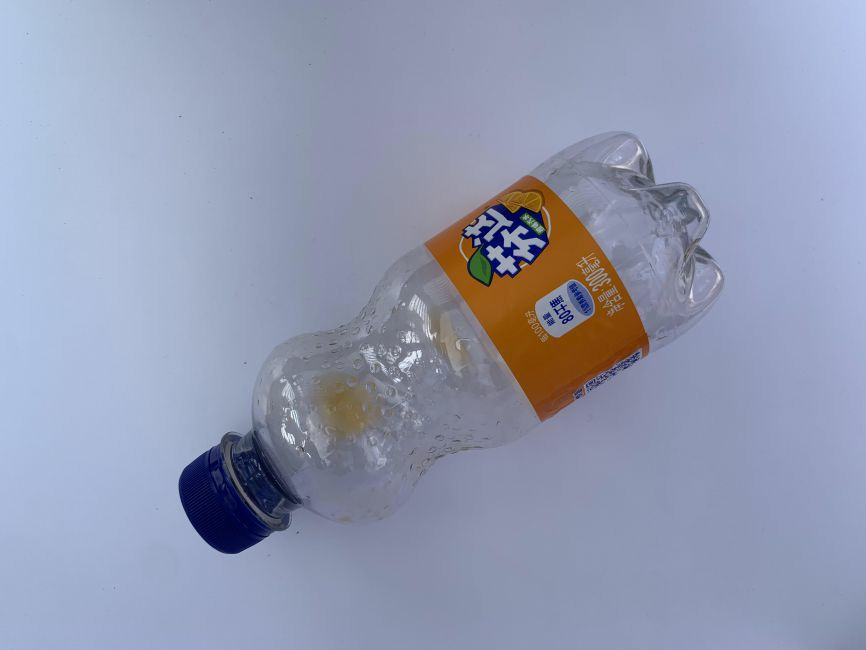bottle: (174, 124, 732, 561)
